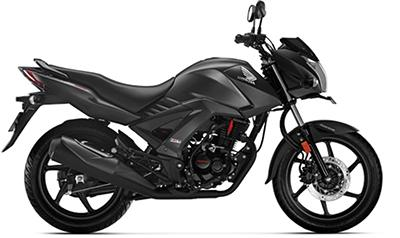motorbike: (1, 1, 383, 233)
